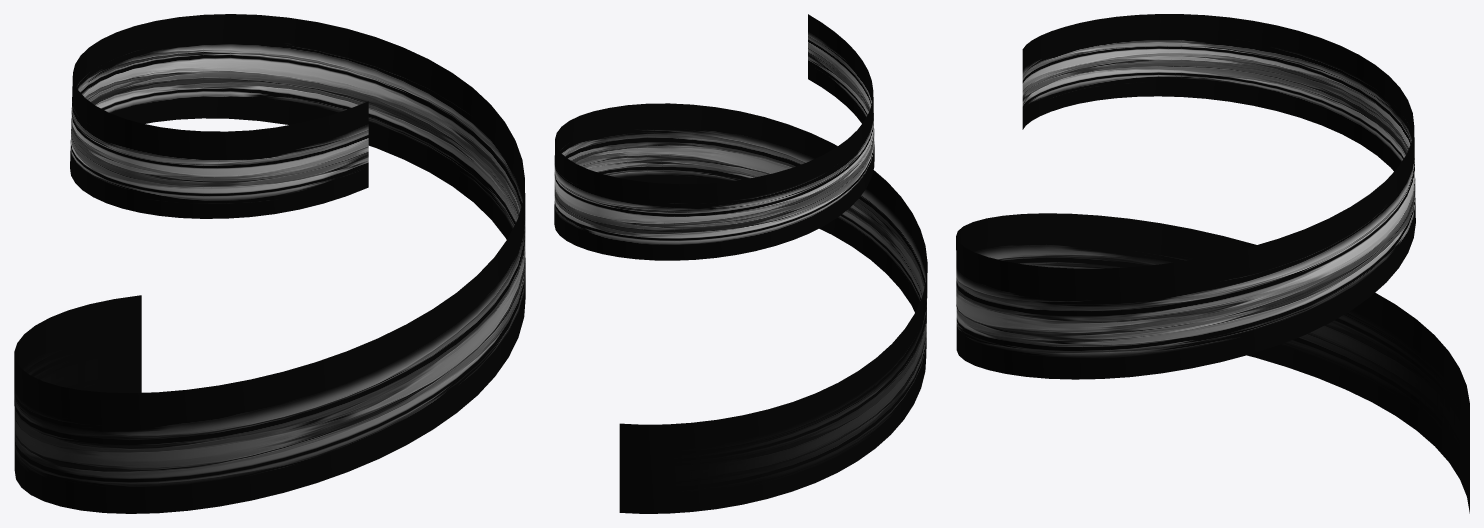
Rendered from Helix_Twist.fbx.
The picture shows the model from 3 angles, left to right: view 1: azimuth 30°, elevation 25°; view 2: azimuth 150°, elevation 25°; view 3: azimuth 270°, elevation 25°; orthographic projection. The views are drawn at different scales.
Parts seen in each view (by area): view 1: HelixTwist; view 2: HelixTwist; view 3: HelixTwist.
Part boxes in pixels (bbox=[...]): HelixTwist: bbox=[14, 14, 525, 513]; HelixTwist: bbox=[554, 14, 927, 513]; HelixTwist: bbox=[956, 14, 1469, 513].
Size of the model in its own units: 107 by 116 by 117.
